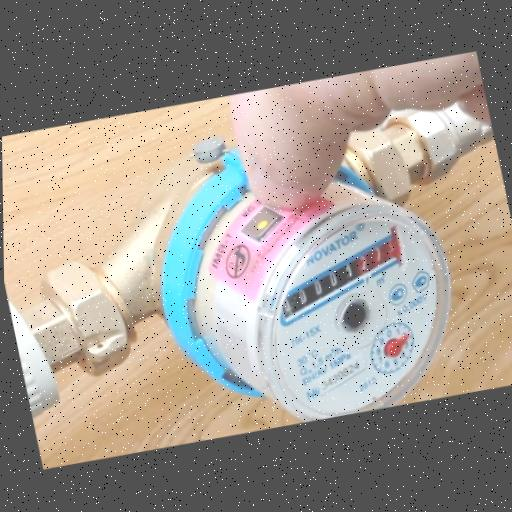0: (323, 267, 343, 292), (294, 285, 313, 309), (277, 295, 296, 318), (309, 277, 327, 300)
1: (340, 258, 359, 282)
2: (354, 250, 372, 275)
3: (381, 236, 399, 257)
7: (369, 242, 386, 268)
border_water_meter_number: (257, 228, 419, 333)
